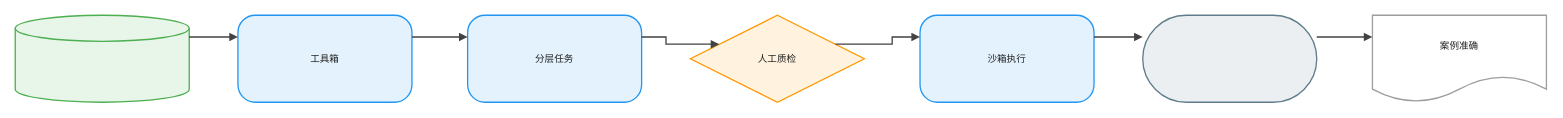
This 1563x118 diagram has some shape labels left out. The box of each missing label's shape, as (x1, y1, x2, y2) in pixels:
任务数据库: (14, 14, 189, 102)
约束校验: (1142, 14, 1317, 102)
